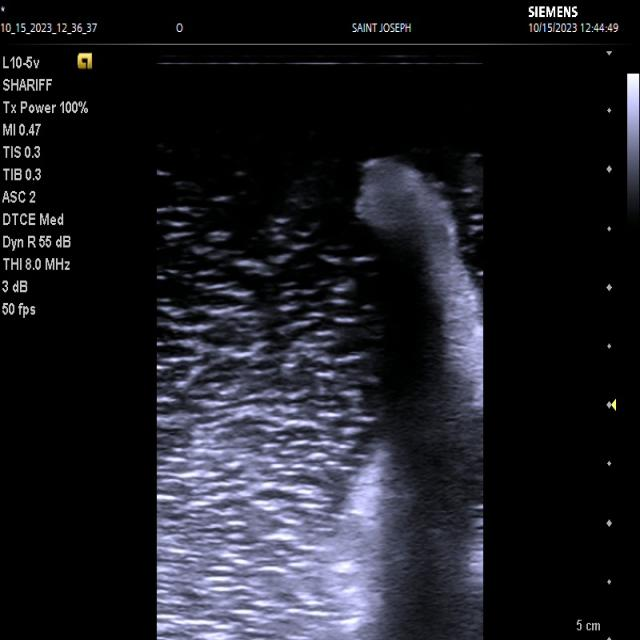tissue: (359, 165, 485, 406)
